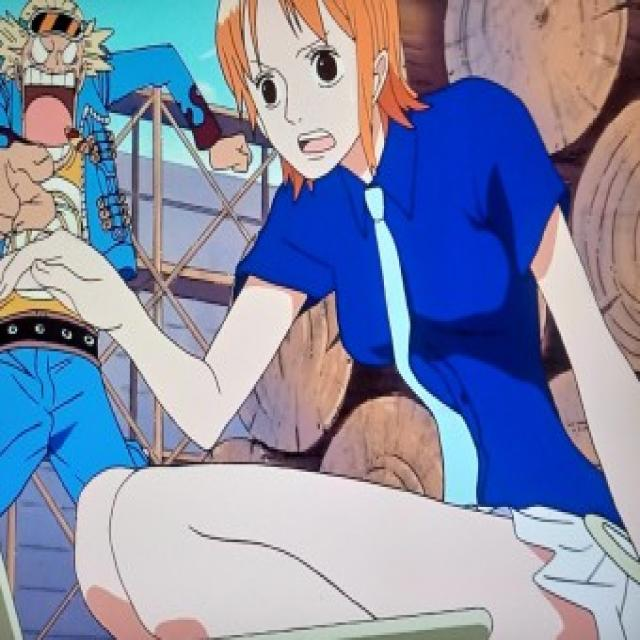Nami: (207, 0, 424, 198)
